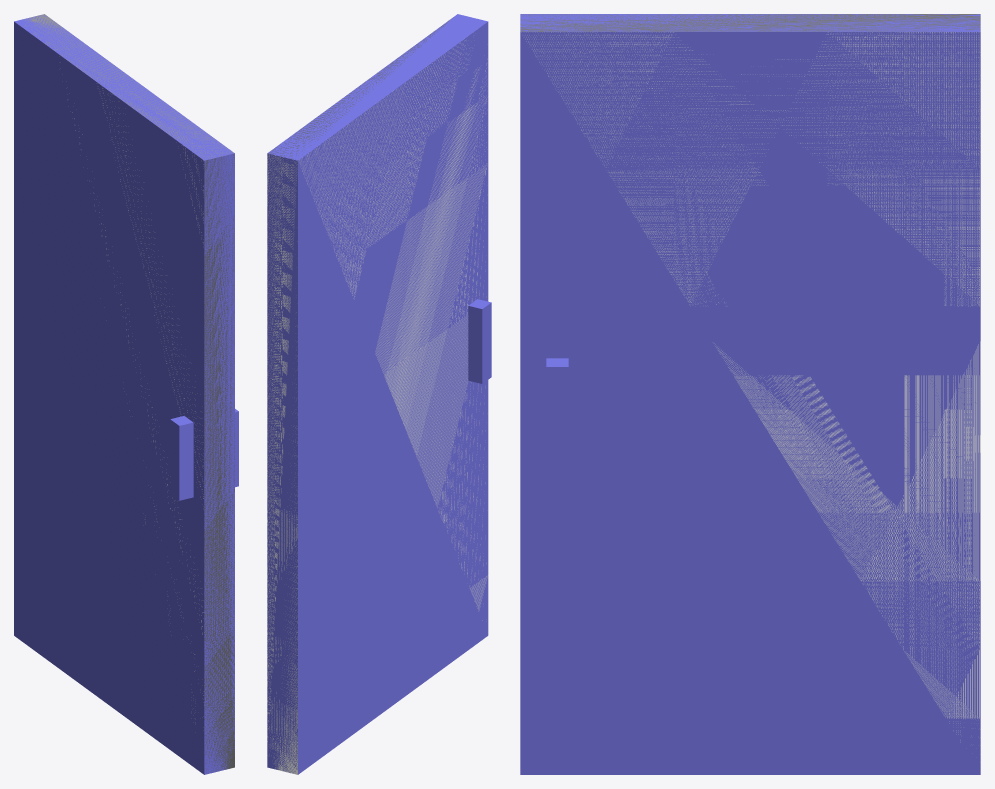
File: SM_Dummy_Door.fbx
3 views of the same model, side by side, from view 1: azimuth 30°, elevation 25°; view 2: azimuth 150°, elevation 25°; view 3: azimuth 270°, elevation 25° (orthographic). The views are drawn at different scales.
Parts seen in each view (by area): view 1: SM_Dummy_Door, SM_Dummy_Door_ConvexHulls; view 2: SM_Dummy_Door, SM_Dummy_Door_ConvexHulls; view 3: SM_Dummy_Door, SM_Dummy_Door_ConvexHulls.
Boxes of the visible parts, x1,y1,x2,y2 form: SM_Dummy_Door: [14, 15, 238, 774]; SM_Dummy_Door_ConvexHulls: [23, 14, 234, 771]; SM_Dummy_Door: [267, 14, 491, 774]; SM_Dummy_Door_ConvexHulls: [267, 17, 487, 774]; SM_Dummy_Door: [520, 14, 980, 774]; SM_Dummy_Door_ConvexHulls: [520, 14, 980, 742].
Size of the model in its own units: 21.9 by 121 by 216.
Materials: 2 (1 with a texture image).
